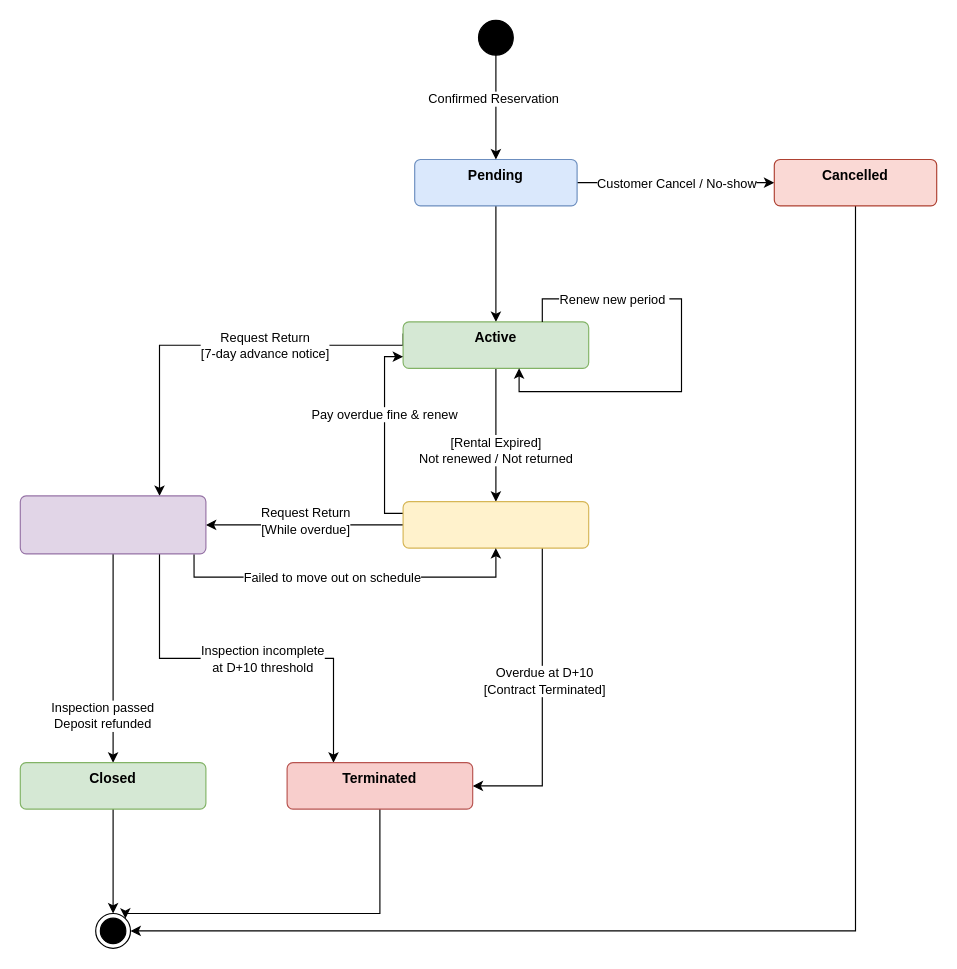
Some shapes in this 957 by 969 pixel diagram are drawn without their labels. The centre of each missing label's shape, as x and y in pixels:
Overdue: point (495, 524)
Returning: point (112, 524)
